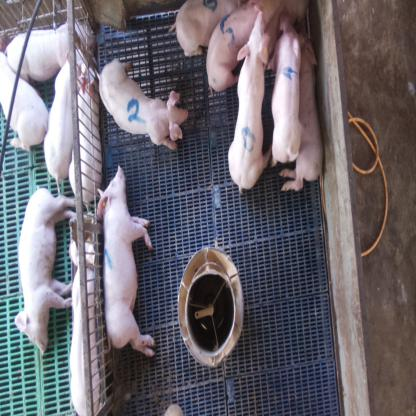1: (281, 68, 298, 82)
2: (125, 98, 146, 126)
5: (219, 15, 234, 45)
N-A: (242, 127, 254, 151)
